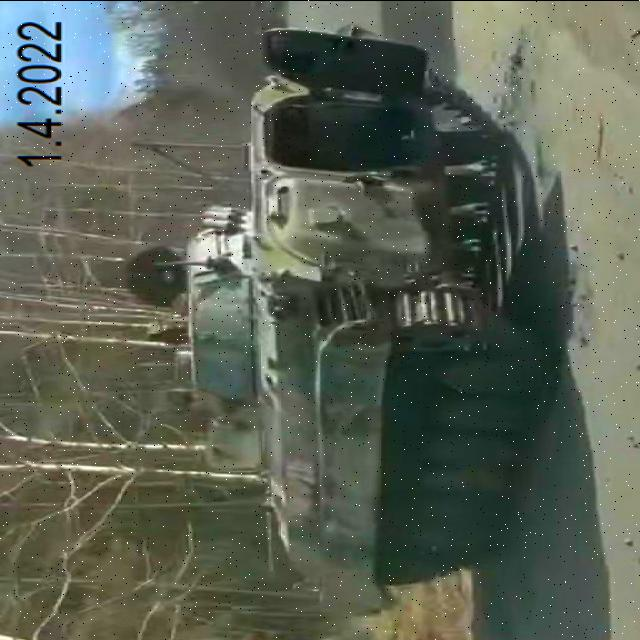APC-IFV: (114, 25, 556, 616)
